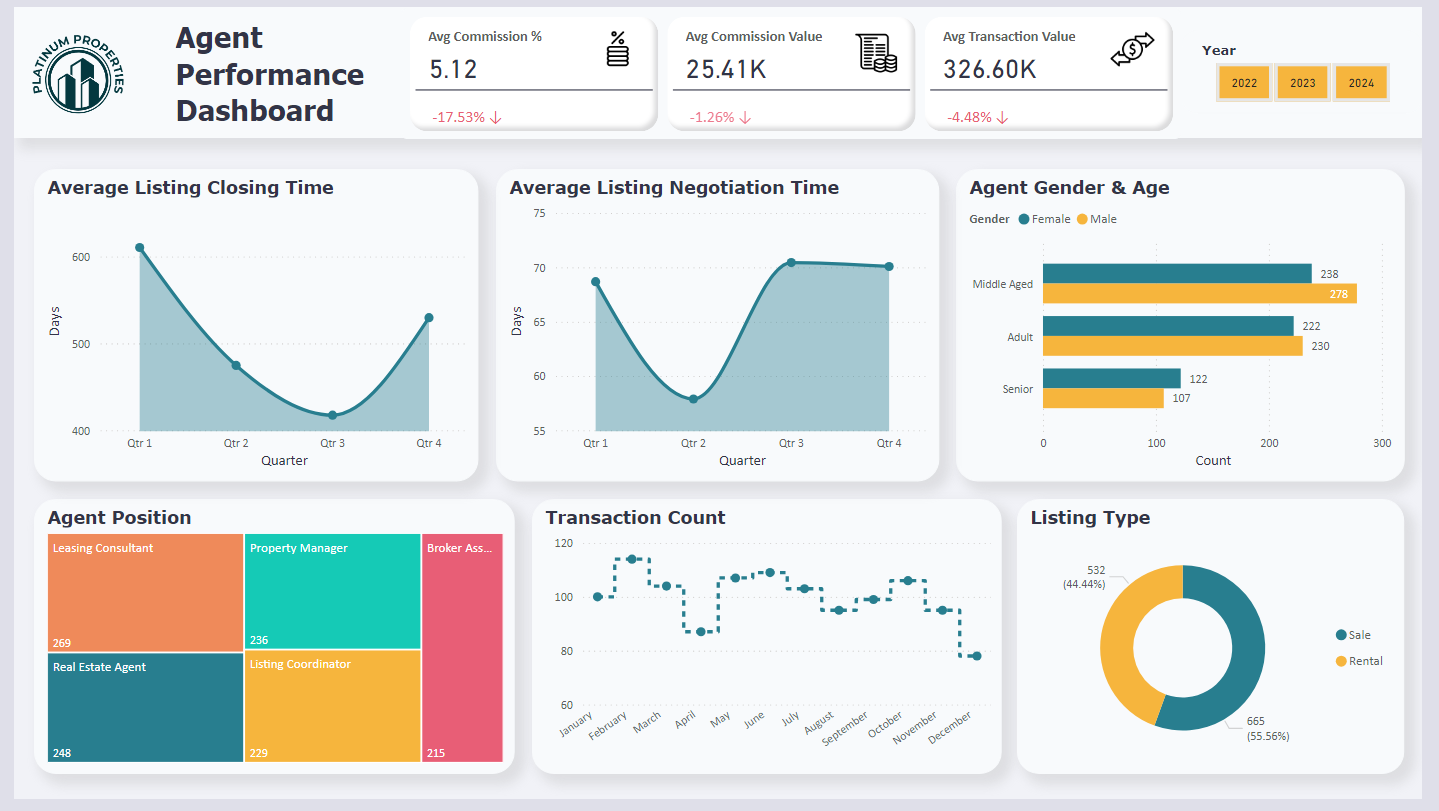

What the dashboard file says about the page in this screenshot:
{"tool":"powerbi","page":{"name":"Page 1","canvas":[1280,720],"ordinal":0},"visuals":[{"type":"clusteredBarChart","title":"Agent Gender & Age","fields":{"Y":["CountNonNull(FactSnapshot.TransactionID)"],"Category":["FactSnapshot.AgeCat"],"Series":["FactSnapshot.Gender"]},"box":[856.6,147.2,407.8,283.5],"z":0},{"type":"treemap","title":"Agent Position","fields":{"Group":["FactSnapshot.Position"],"Values":["CountNonNull(FactSnapshot.TransactionID)"]},"box":[18.1,447.6,436.7,249.7],"z":1000},{"type":"shape","box":[0,0,1280.2,119.4],"z":2000},{"type":"lineChart","title":"Transaction Count","fields":{"Y":["CountNonNull(FactSnapshot.TransactionID)"],"Category":["FactSnapshot.Date.Variation.Date Hierarchy.Year","FactSnapshot.Date.Variation.Date Hierarchy.Quarter","FactSnapshot.Date.Variation.Date Hierarchy.Month","FactSnapshot.Date.Variation.Date Hierarchy.Day"]},"box":[470.5,447.6,427.1,249.7],"z":3000},{"type":"areaChart","title":"Average Listing Negotiation Time","fields":{"Y":["Avg(FactSnapshot.NegotiationDays)"],"Category":["FactSnapshot.Date.Variation.Date Hierarchy.Year","FactSnapshot.Date.Variation.Date Hierarchy.Quarter","FactSnapshot.Date.Variation.Date Hierarchy.Month","FactSnapshot.Date.Variation.Date Hierarchy.Day"]},"box":[437.9,147.2,403,283.5],"z":4000},{"type":"areaChart","title":"Average Listing Closing Time","fields":{"Y":["Avg(FactSnapshot.ClosingDays)"],"Category":["FactSnapshot.Date.Variation.Date Hierarchy.Year","FactSnapshot.Date.Variation.Date Hierarchy.Quarter","FactSnapshot.Date.Variation.Date Hierarchy.Month","FactSnapshot.Date.Variation.Date Hierarchy.Day"]},"box":[18.1,147.2,404.2,283.5],"z":5000},{"type":"donutChart","title":"Listing Type","fields":{"Category":["FactSnapshot.ListingType"],"Y":["CountNonNull(FactSnapshot.ListingType)"]},"box":[912.1,447.6,352.3,249.7],"z":6000},{"type":"slicer","fields":{"Values":["FactSnapshot.Date.Variation.Date Hierarchy.Year"]},"box":[1060.7,21.1,219.5,76.4],"z":7000},{"type":"textbox","box":[141.4,5.3,188.8,109.8],"z":8000},{"type":"image","box":[10.9,9.7,95.3,102.5],"z":9000},{"type":"cardVisual","title":"this is title","fields":{"Data":["Avg(FactSnapshot.CommissionRate)","Avg(FactSnapshot.CommissionValue)","Avg(FactSnapshot.TransactionValue)"]},"box":[352.1,0.9,708.6,118.5],"z":10000}]}

Visuals, with their boxes in screenshot pixels (x1, y1, x2, y2), scaled from the page's 1280x720 canvas onto the 1439x811 screenshot:
"Agent Gender & Age" clusteredBarChart: box=[963, 166, 1421, 485]
"Agent Position" treemap: box=[20, 504, 511, 785]
shape: box=[0, 0, 1438, 134]
"Transaction Count" lineChart: box=[529, 504, 1009, 785]
"Average Listing Negotiation Time" areaChart: box=[492, 166, 945, 485]
"Average Listing Closing Time" areaChart: box=[20, 166, 475, 485]
"Listing Type" donutChart: box=[1025, 504, 1421, 785]
slicer - FactSnapshot.Date.Variation.Date Hierarchy.Year: box=[1192, 24, 1438, 110]
textbox: box=[159, 6, 371, 130]
image: box=[12, 11, 119, 126]
"this is title" cardVisual: box=[396, 1, 1192, 134]
